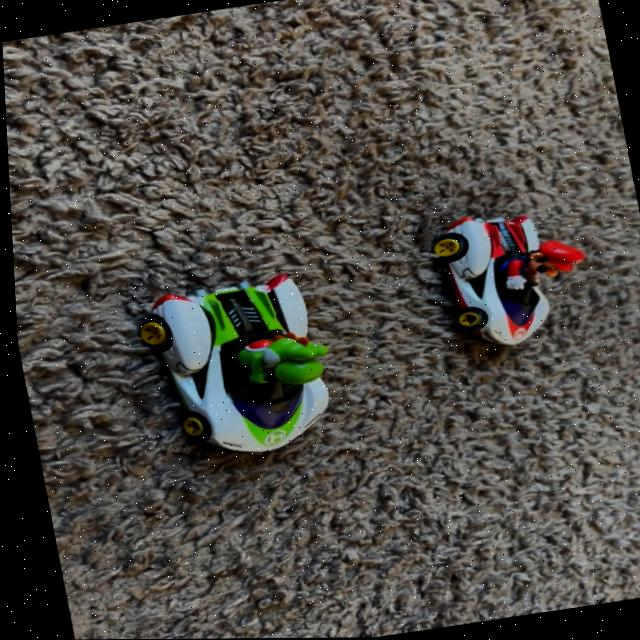mario: (408, 193, 610, 372)
yoshi: (121, 247, 360, 487)
